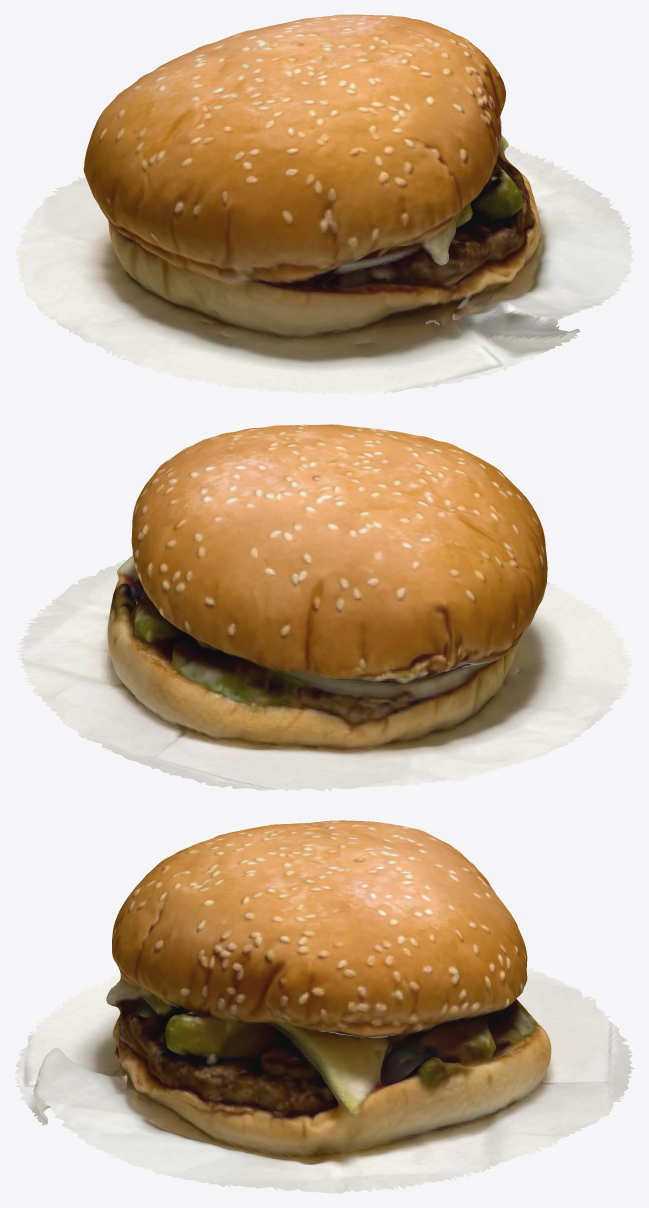
Rendered from hamburguer-classico.glb.
3 views of the same model, one above another, from view 1: azimuth 30°, elevation 25°; view 2: azimuth 150°, elevation 25°; view 3: azimuth 270°, elevation 25° (orthographic).
Parts seen in each view (by area): view 1: Object_4, Object_5; view 2: Object_5, Object_4; view 3: Object_4, Object_5.
Part boxes in pixels (left/top/right/bottom): Object_4: left=14, top=14, right=634, bottom=395; Object_5: left=84, top=15, right=616, bottom=350; Object_5: left=15, top=425, right=547, bottom=761; Object_4: left=66, top=424, right=633, bottom=791; Object_4: left=14, top=821, right=634, bottom=1191; Object_5: left=34, top=820, right=600, bottom=1193.
Size of the model in its own units: 0.2097 by 0.0798 by 0.2101.
2 materials, 2 textured.
